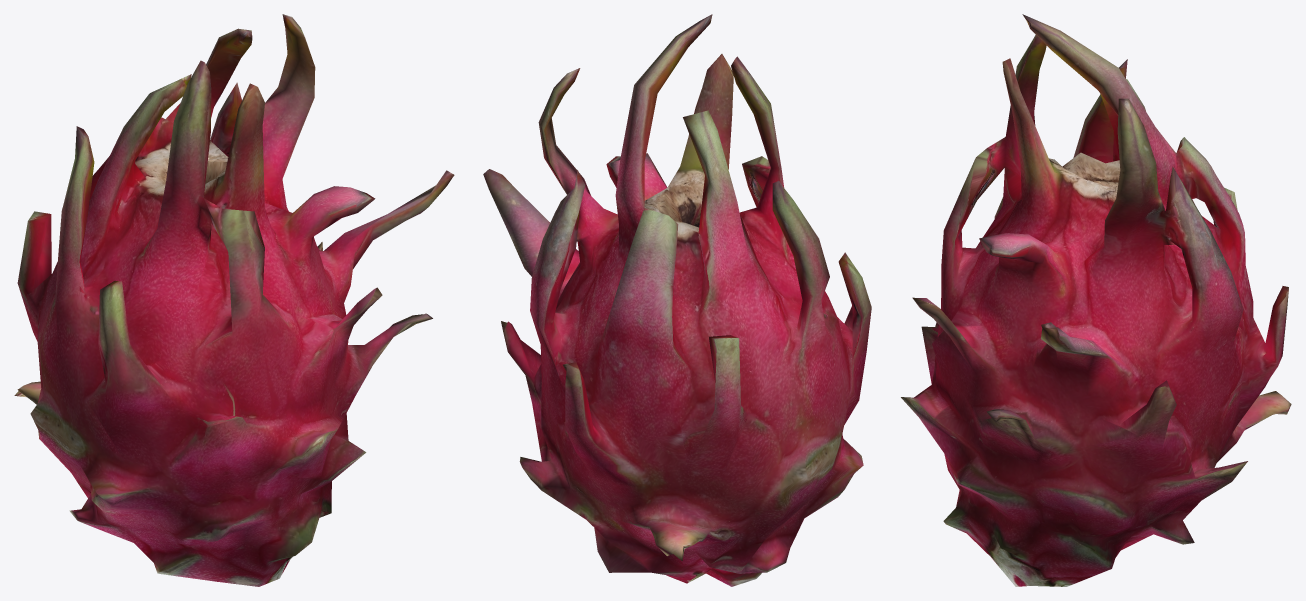
Rendered from A107_Dragon_Fruit_low.fbx.
3 views of the same model, side by side, from view 1: azimuth 30°, elevation 25°; view 2: azimuth 150°, elevation 25°; view 3: azimuth 270°, elevation 25° (orthographic). The views are drawn at different scales.
Visible parts, largest first — view 1: A107_Dragon_Fruit_low; view 2: A107_Dragon_Fruit_low; view 3: A107_Dragon_Fruit_low.
Boxes of the visible parts, x1,y1,x2,y2 form: A107_Dragon_Fruit_low: (14,14,454,586); A107_Dragon_Fruit_low: (483,14,871,586); A107_Dragon_Fruit_low: (901,14,1291,586).
Size of the model in its own units: 7.63 by 6.76 by 10.68.
1 material, 1 textured.
